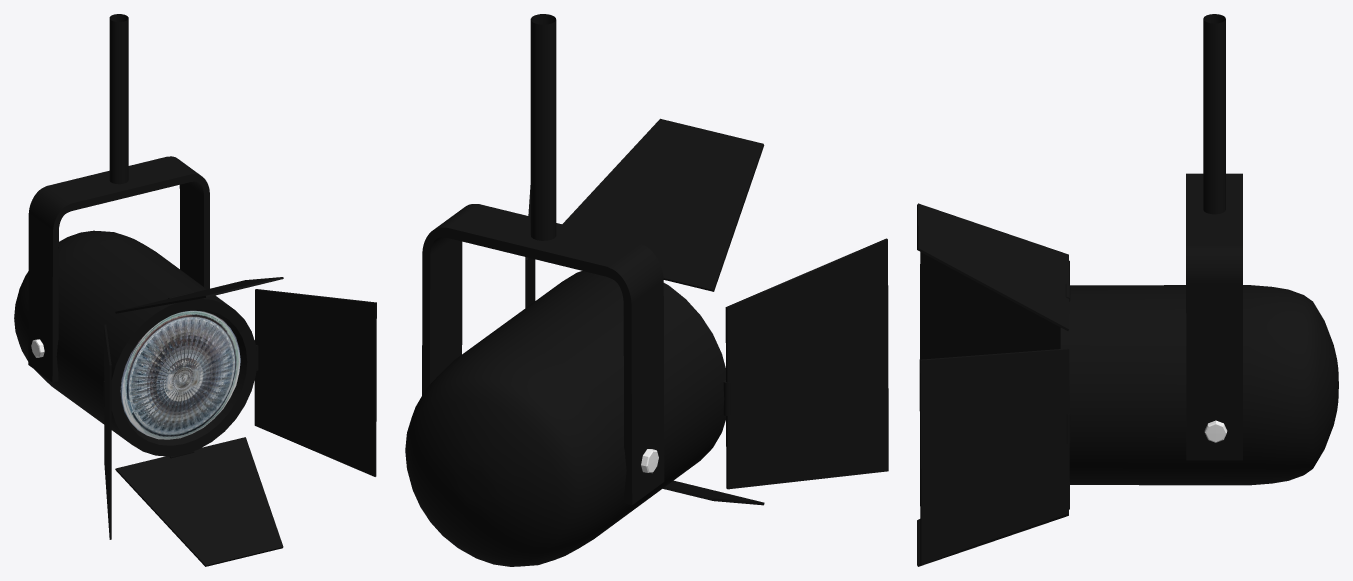
Rendered from Flat_Panel_Spot_Light.fbx.
The picture shows the model from 3 angles, left to right: view 1: azimuth 30°, elevation 25°; view 2: azimuth 150°, elevation 25°; view 3: azimuth 270°, elevation 25°; orthographic projection. The views are drawn at different scales.
Parts seen in each view (by area): view 1: Flat_Panel_Light_Base, Flat_Panels_Reflector_1, Flat_Panels_Reflector_4, Flat_Panel_Connector, Flat_Panel_Light_Bulb, Flat_Panel_Light_Holder, Flat_Panels_Reflector_3, Flat_Panels_Reflector_2; view 2: Flat_Panel_Light_Base, Flat_Panels_Reflector_3, Flat_Panel_Connector, Flat_Panels_Reflector_2, Flat_Panel_Light_Holder, Flat_Panels_Reflector_4; view 3: Flat_Panel_Light_Base, Flat_Panels_Reflector_1, Flat_Panel_Connector, Flat_Panels_Reflector_2, Flat_Panels_Reflector_3, Flat_Panel_Light_Holder, Flat_Panels_Reflector_4.
Boxes of the visible parts, box(x1,y1,x2,y2) form: Flat_Panel_Light_Base: box(14, 230, 257, 456); Flat_Panels_Reflector_1: box(254, 289, 376, 476); Flat_Panels_Reflector_4: box(115, 437, 283, 566); Flat_Panel_Connector: box(28, 156, 209, 382); Flat_Panel_Light_Bulb: box(120, 310, 240, 439); Flat_Panel_Light_Holder: box(109, 14, 128, 184); Flat_Panels_Reflector_3: box(104, 324, 111, 539); Flat_Panels_Reflector_2: box(115, 277, 283, 313); Flat_Panel_Light_Base: box(405, 271, 725, 566); Flat_Panels_Reflector_3: box(725, 238, 888, 489); Flat_Panel_Connector: box(422, 204, 664, 504); Flat_Panels_Reflector_2: box(562, 118, 764, 291); Flat_Panel_Light_Holder: box(530, 14, 556, 240); Flat_Panels_Reflector_4: box(663, 480, 764, 505); Flat_Panel_Light_Base: box(1060, 285, 1338, 485); Flat_Panels_Reflector_1: box(919, 348, 1069, 565); Flat_Panel_Connector: box(1186, 173, 1242, 460); Flat_Panels_Reflector_2: box(917, 203, 1069, 330); Flat_Panels_Reflector_3: box(920, 252, 1069, 359); Flat_Panel_Light_Holder: box(1203, 14, 1225, 214); Flat_Panels_Reflector_4: box(917, 510, 1068, 566).
Size of the model in its own units: 0.8522 by 1.36 by 0.9902.
